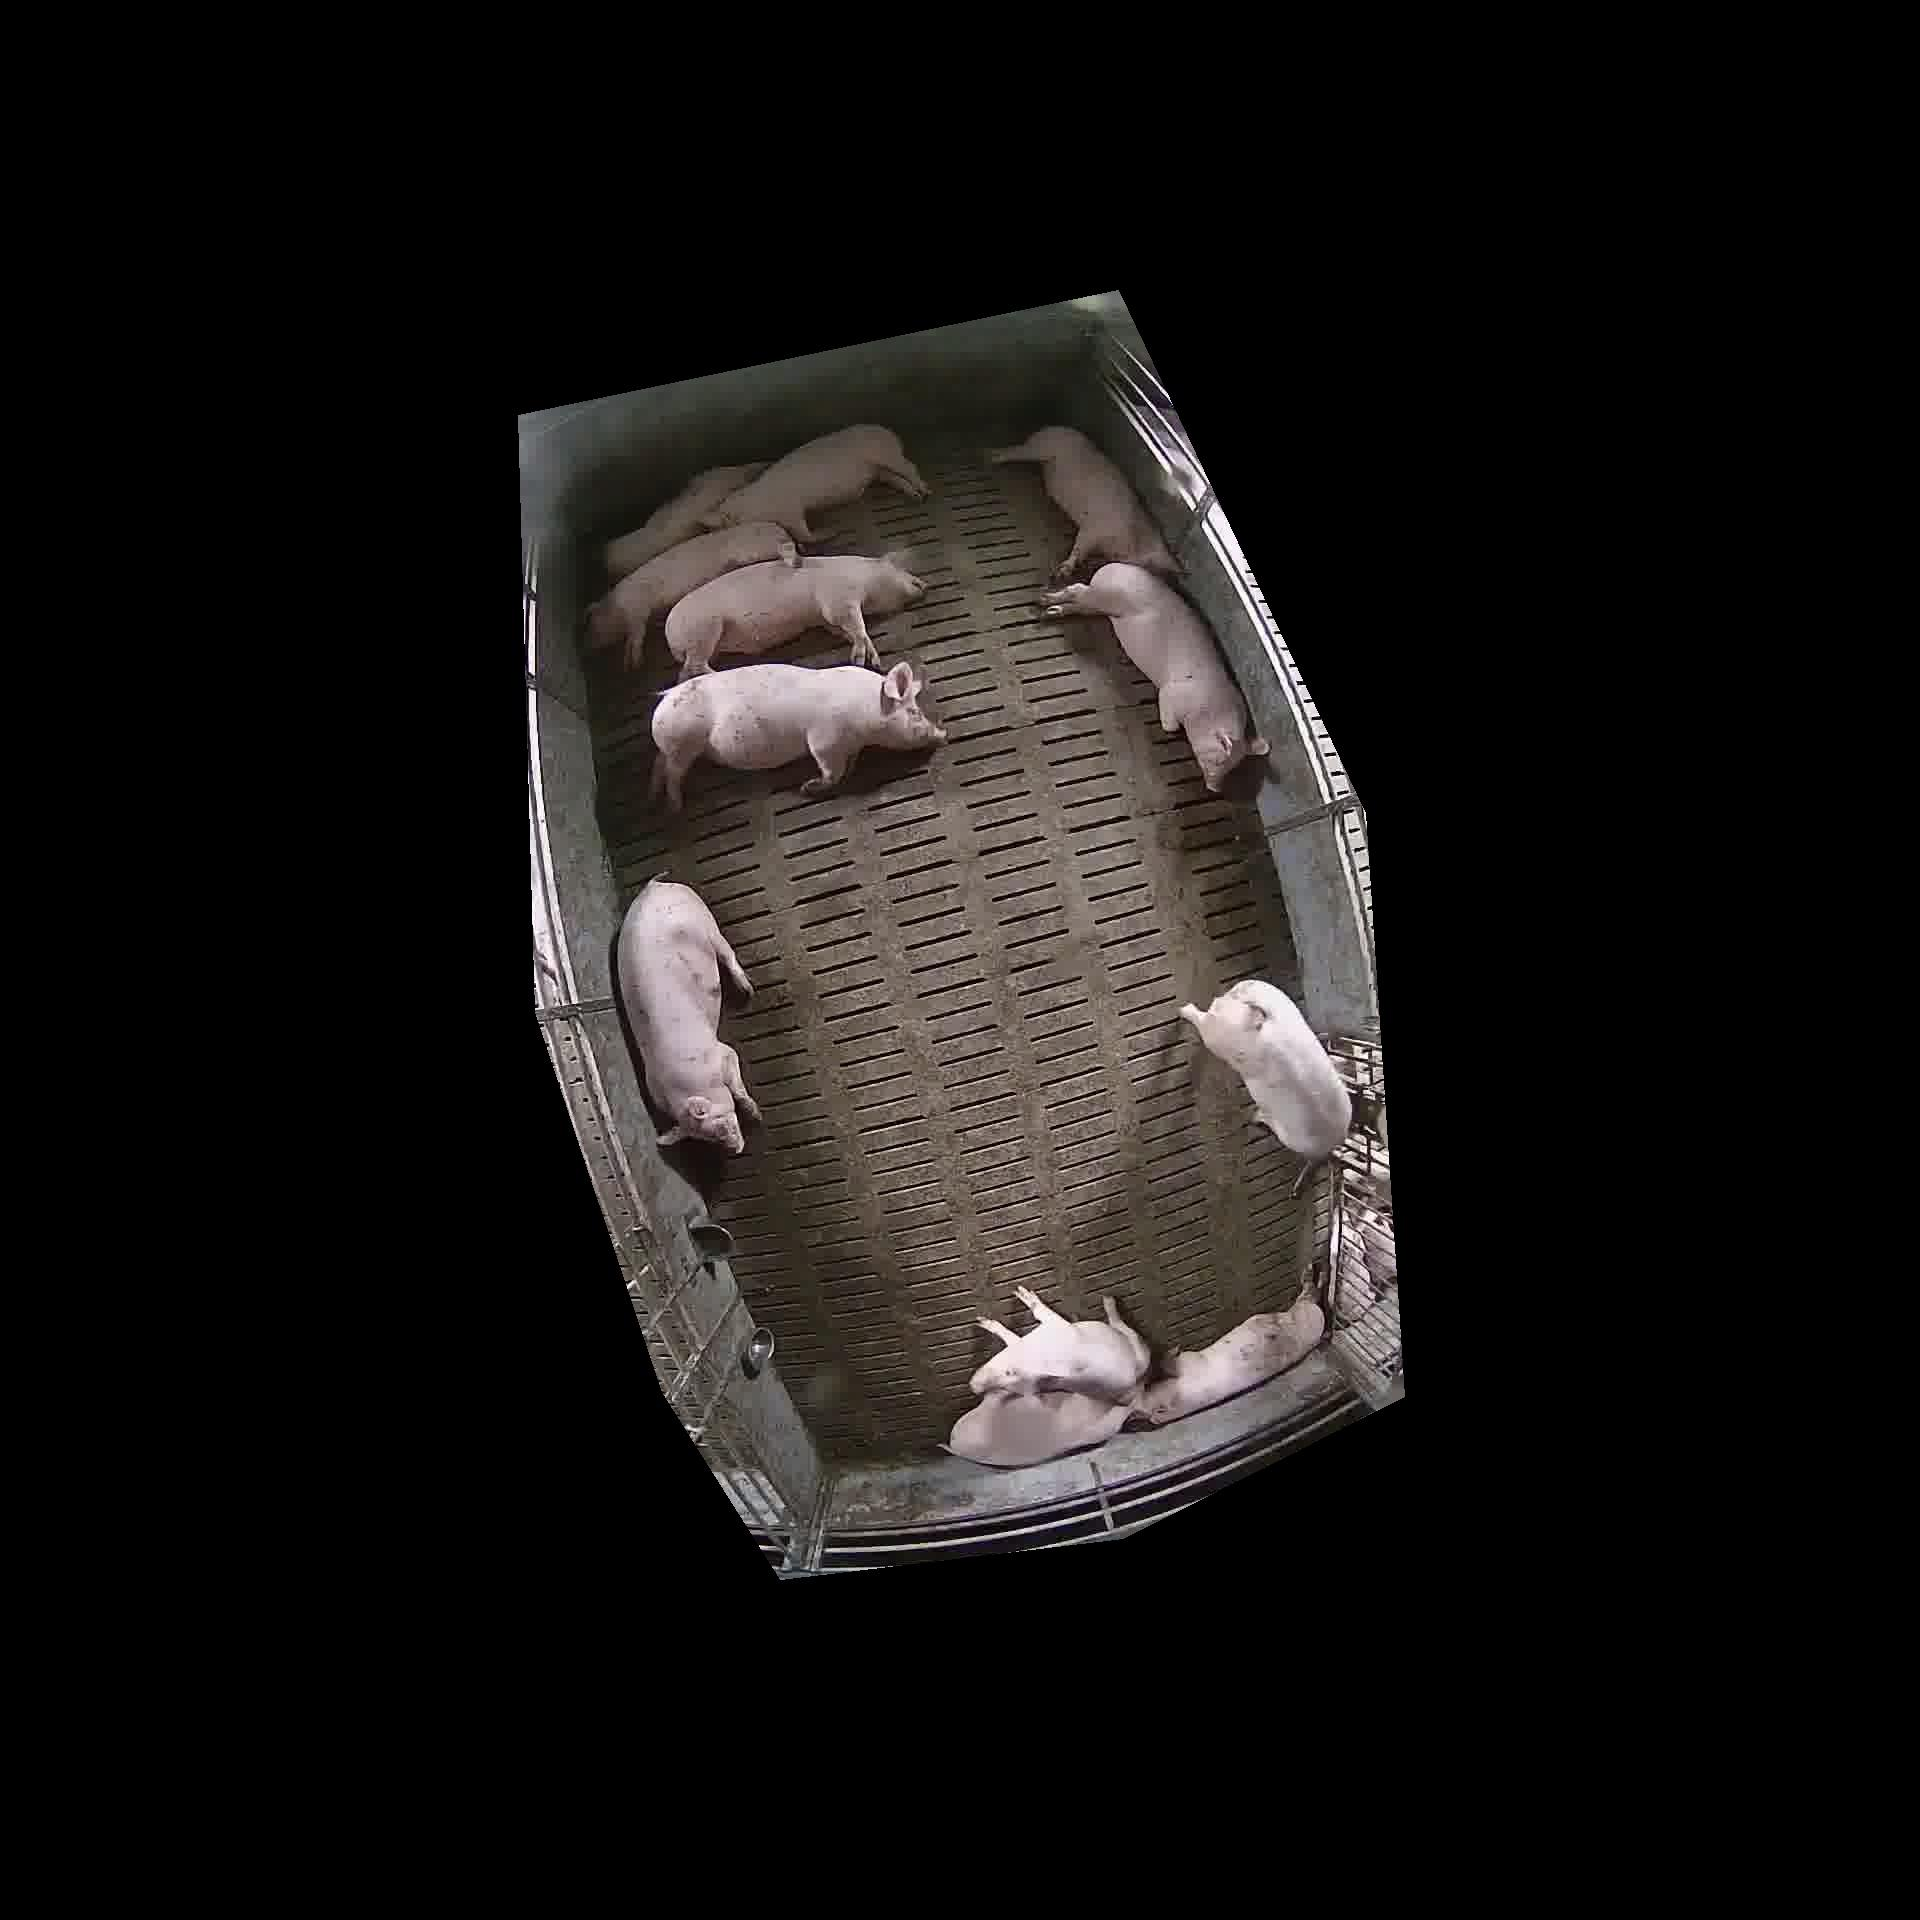pig: (1041, 563, 1264, 788), (651, 663, 944, 809), (617, 879, 760, 1153), (665, 554, 925, 679), (1180, 979, 1350, 1162), (587, 522, 796, 666), (985, 425, 1176, 577), (703, 424, 928, 543), (1136, 1296, 1324, 1424), (971, 1285, 1148, 1396), (605, 462, 765, 578), (944, 1387, 1125, 1463)
